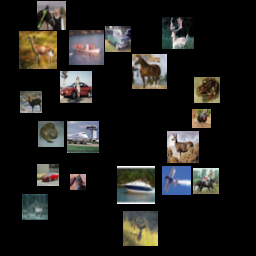airplane: (7, 89, 39, 121), (186, 74, 208, 96)
automobile: (114, 97, 146, 129), (64, 198, 96, 230), (31, 193, 57, 219)
bird: (147, 125, 179, 157)
deer: (194, 152, 232, 190), (98, 204, 136, 242), (10, 20, 48, 58), (123, 33, 142, 52)
dog: (202, 3, 237, 38), (203, 41, 232, 70), (60, 150, 89, 179)
frog: (98, 134, 136, 172), (86, 50, 121, 85), (7, 150, 42, 185)
ship: (149, 13, 187, 51)
